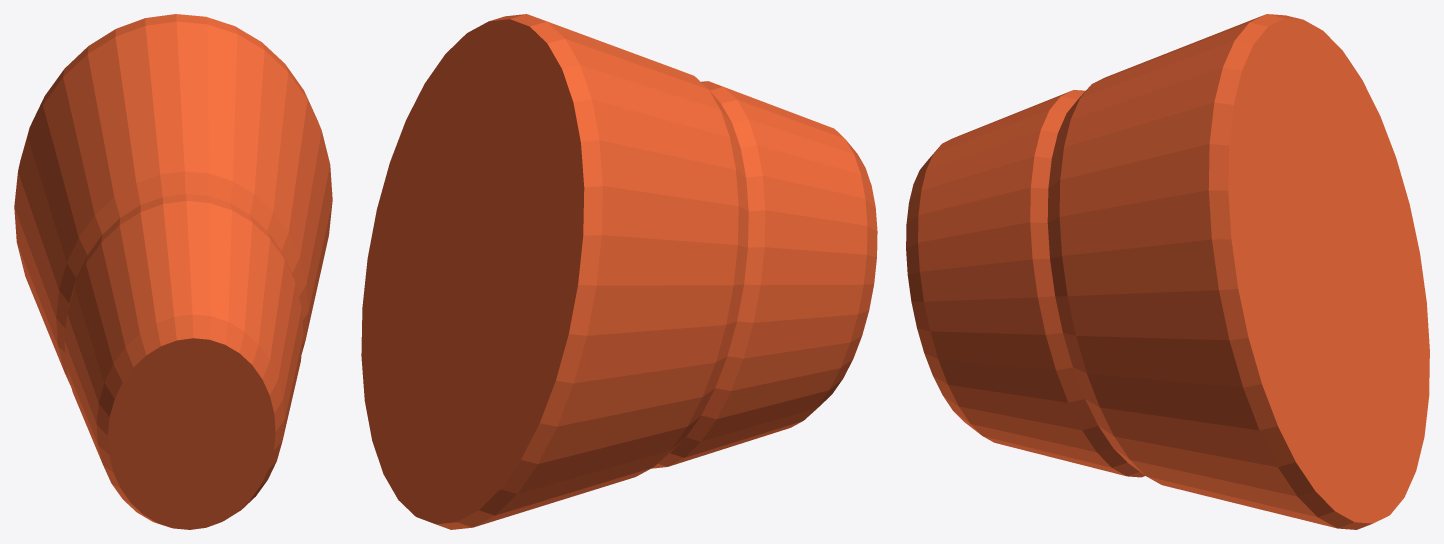
3 views of the same model, side by side, from view 1: azimuth 30°, elevation 25°; view 2: azimuth 150°, elevation 25°; view 3: azimuth 270°, elevation 25° (orthographic). The views are drawn at different scales.
Parts seen in each view (by area): view 1: Cylinder.027; view 2: Cylinder.027; view 3: Cylinder.027.
Part boxes in pixels (box(x1,y1,x2,y2)): Cylinder.027: box(14, 14, 332, 529); Cylinder.027: box(361, 14, 877, 529); Cylinder.027: box(906, 14, 1429, 529).
Bounding box in the file's own units: 8.76 × 10.45 × 10.51.
